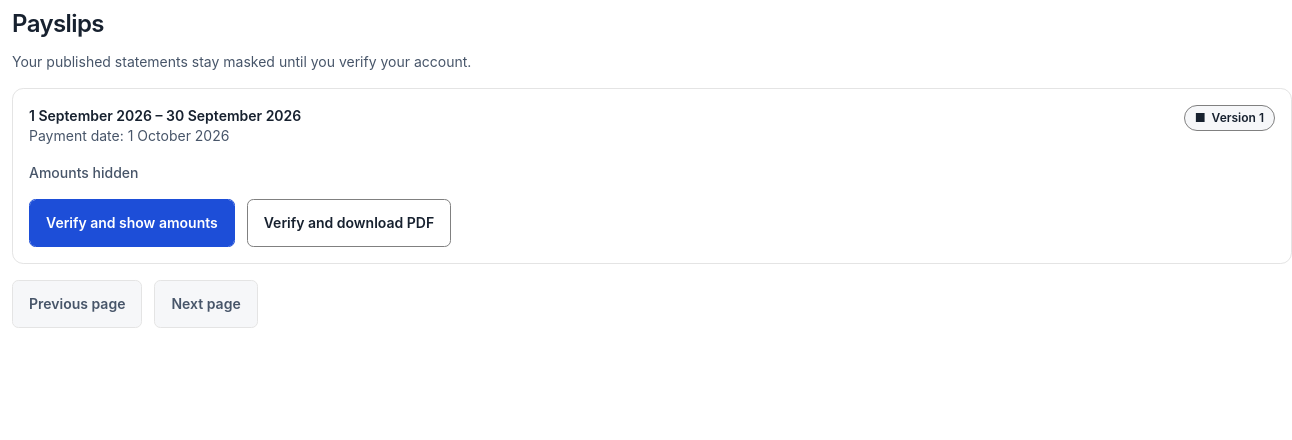
Test: uses provider reverification and a fresh signed token, then clears amounts on hide
Click the button "Verify and show amounts" at point(132, 223), box [29,199,235,247]
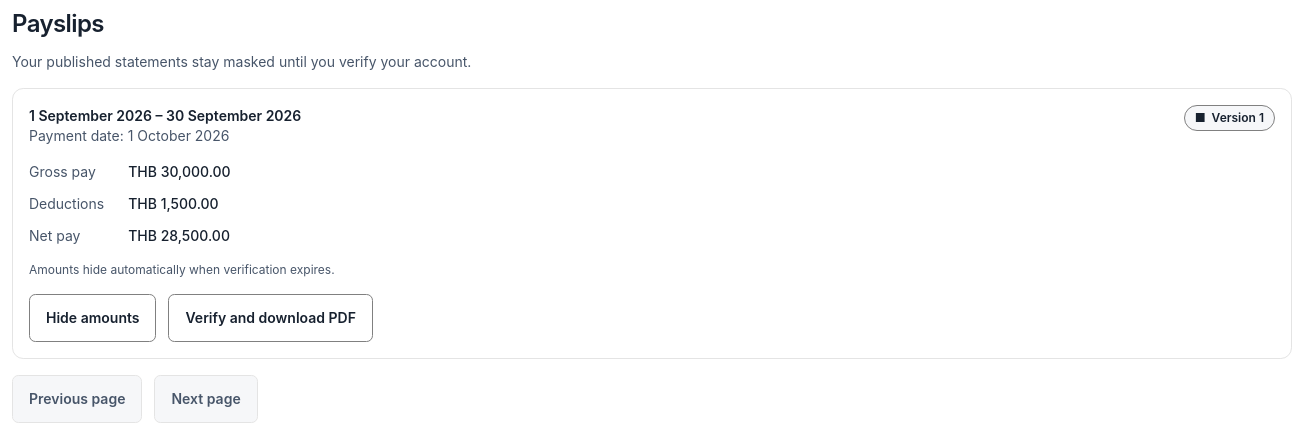
Check: the text "THB 30,000.00" is shown, box [128,163,231,180]
Click the button "Hide amounts" at point(93, 318), box [29,294,156,342]
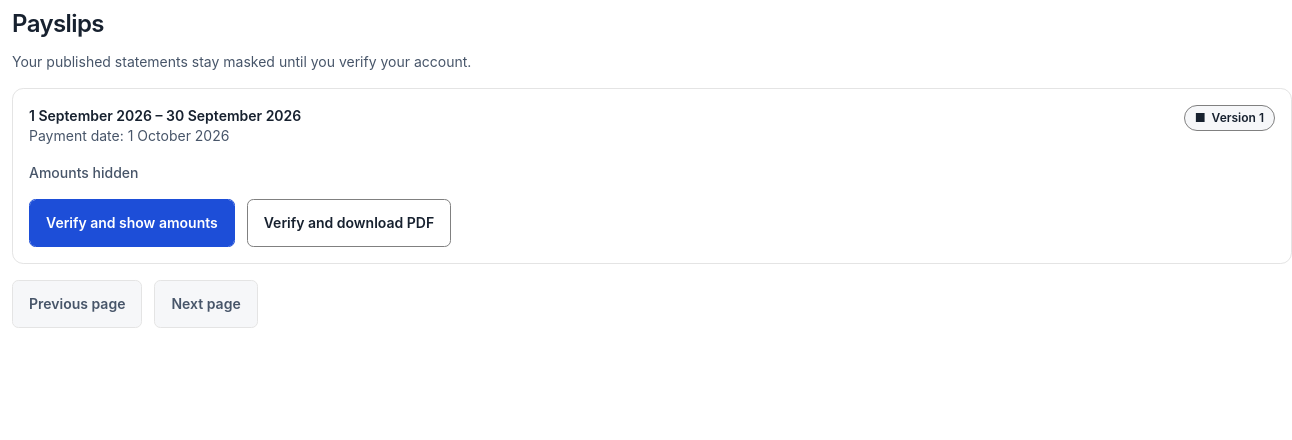
Check: the text "30,000" is gone
